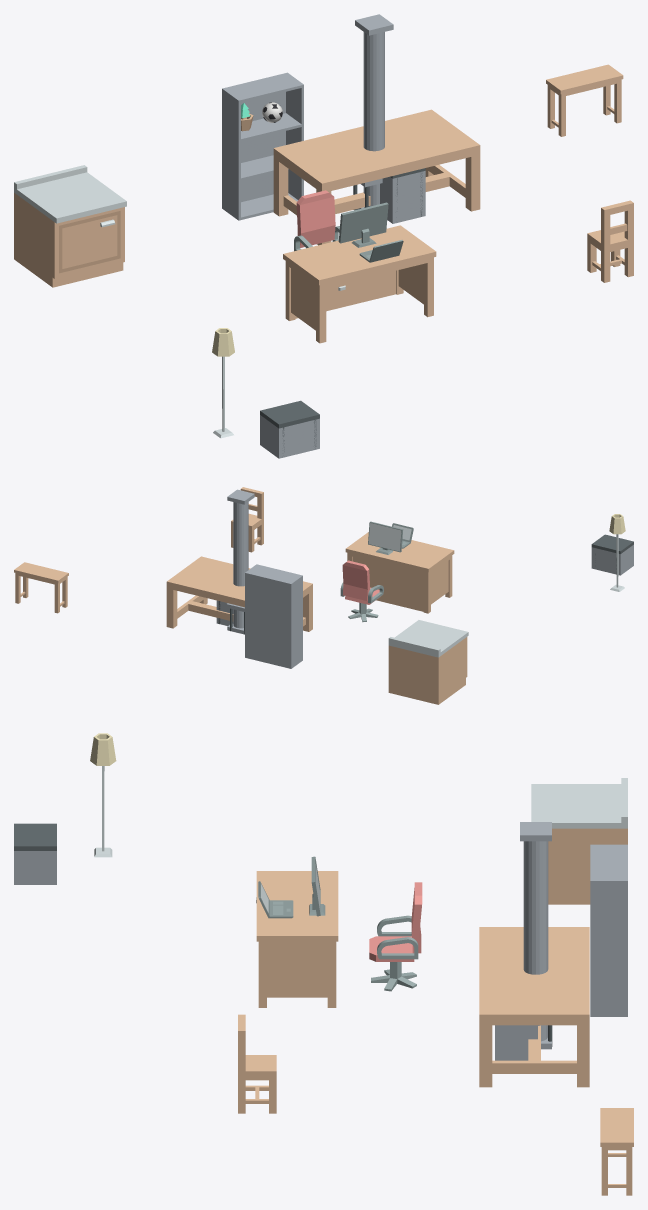
The picture shows the model from 3 angles, top to bottom: view 1: azimuth 30°, elevation 25°; view 2: azimuth 150°, elevation 25°; view 3: azimuth 270°, elevation 25°; orthographic projection. The views are drawn at different scales.
Visible parts, largest first — view 1: table_green__table(Clone), desk_blue__desk(Clone), cabinet_blue__kitchenCabinet(Clone), cabinet_blue__door, column_cyan__column_cyan shaft, chair_cyan__chair(Clone), sidetable_brown__sideTable(Clone), shelf_orange__shelf_orange side_l, shelf_orange__shelf_orange back, deskchair_black__chair, bin_gray__bin_gray shell, crate_red__crate_red shell (+7 smaller); view 2: cabinet_blue__kitchenCabinet(Clone), desk_blue__desk(Clone), table_green__table(Clone), shelf_orange__shelf_orange back, column_cyan__column_cyan shaft, sidetable_brown__sideTable(Clone), deskchair_black__chair, shelf_orange__shelf_orange side_l, crate_red__crate_red shell, monitor_gray__computerScreen(Clone), chair_cyan__chair(Clone), lamp_white__lampRoundFloor(Clone) (+2 smaller); view 3: table_green__table(Clone), desk_blue__desk(Clone), cabinet_blue__kitchenCabinet(Clone), shelf_orange__shelf_orange side_r, column_cyan__column_cyan shaft, deskchair_black__chair, sidetable_brown__sideTable(Clone), chair_cyan__chair(Clone), crate_red__crate_red shell, bin_gray__bin_gray shell, shelf_orange__shelf_orange board3, crate_red__crate_red lid (+4 smaller).
Part boxes in pixels (x1,y1,x2,y2): table_green__table(Clone): (273, 109, 480, 245); desk_blue__desk(Clone): (283, 225, 436, 343); cabinet_blue__kitchenCabinet(Clone): (14, 165, 126, 287); cabinet_blue__door: (59, 211, 120, 273); column_cyan__column_cyan shaft: (363, 32, 384, 207); chair_cyan__chair(Clone): (587, 200, 633, 282); sidetable_brown__sideTable(Clone): (546, 64, 623, 136); shelf_orange__shelf_orange side_l: (222, 88, 240, 220); shelf_orange__shelf_orange back: (225, 73, 285, 202); deskchair_black__chair: (294, 190, 339, 251); bin_gray__bin_gray shell: (380, 171, 425, 223); crate_red__crate_red shell: (260, 415, 319, 458); cabinet_blue__kitchenCabinet(Clone): (388, 620, 468, 704); desk_blue__desk(Clone): (345, 532, 454, 613); table_green__table(Clone): (166, 556, 312, 631); shelf_orange__shelf_orange back: (246, 573, 289, 668); column_cyan__column_cyan shaft: (233, 502, 248, 628); sidetable_brown__sideTable(Clone): (14, 562, 68, 613); deskchair_black__chair: (340, 560, 383, 604); shelf_orange__shelf_orange side_l: (289, 575, 302, 668); crate_red__crate_red shell: (591, 544, 633, 575); monitor_gray__computerScreen(Clone): (368, 521, 403, 554); chair_cyan__chair(Clone): (231, 487, 263, 552); lamp_white__lampRoundFloor(Clone): (609, 514, 625, 591); table_green__table(Clone): (479, 927, 589, 1087); desk_blue__desk(Clone): (256, 871, 338, 1007); cabinet_blue__kitchenCabinet(Clone): (531, 778, 627, 904); shelf_orange__shelf_orange side_r: (590, 879, 627, 1016); column_cyan__column_cyan shaft: (523, 841, 548, 1041); deskchair_black__chair: (369, 882, 422, 961); sidetable_brown__sideTable(Clone): (600, 1108, 633, 1195); chair_cyan__chair(Clone): (238, 1014, 276, 1113); crate_red__crate_red shell: (14, 851, 56, 884); bin_gray__bin_gray shell: (495, 1025, 537, 1060); shelf_orange__shelf_orange board3: (590, 846, 625, 879); crate_red__crate_red lid: (14, 823, 56, 850).
Size of the model in its own units: 7.66 by 2.2 by 5.78.
